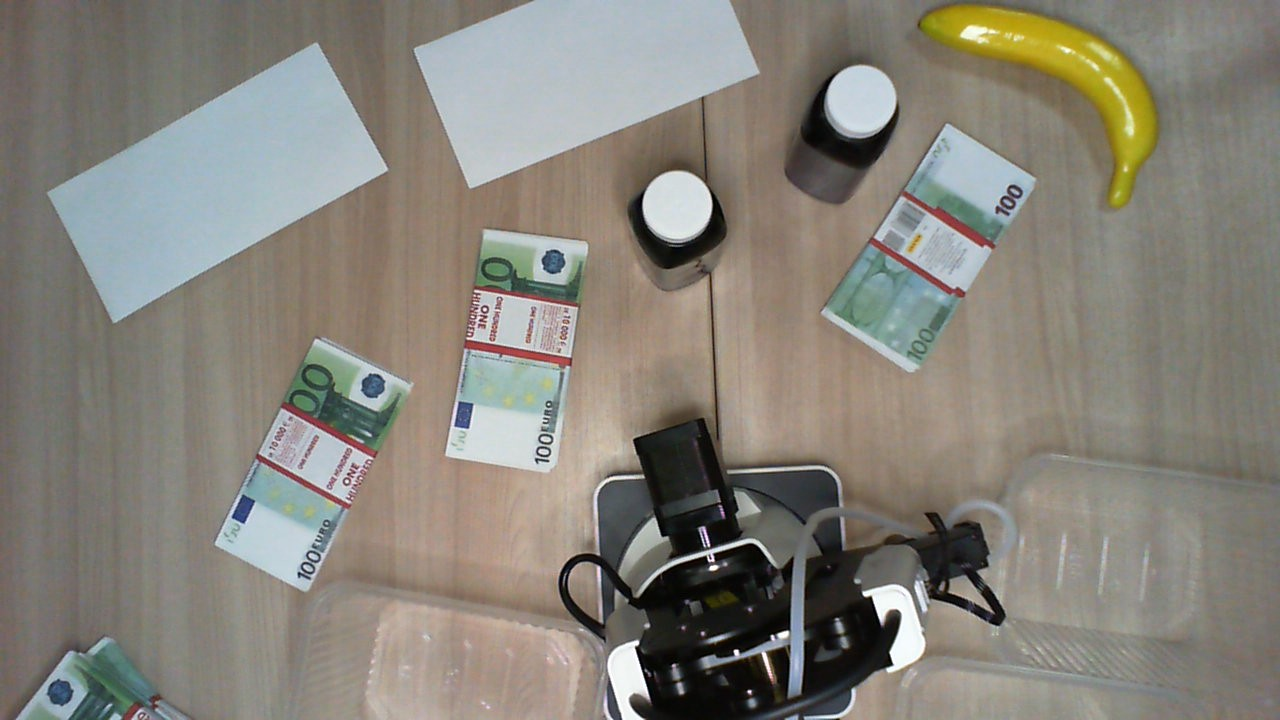banana: (922, 1, 1165, 205)
bottle: (794, 66, 904, 172), (618, 166, 727, 272)
convert: (43, 25, 386, 327), (414, 1, 761, 201)
money: (821, 123, 1035, 385), (223, 328, 416, 587), (443, 227, 594, 480)
